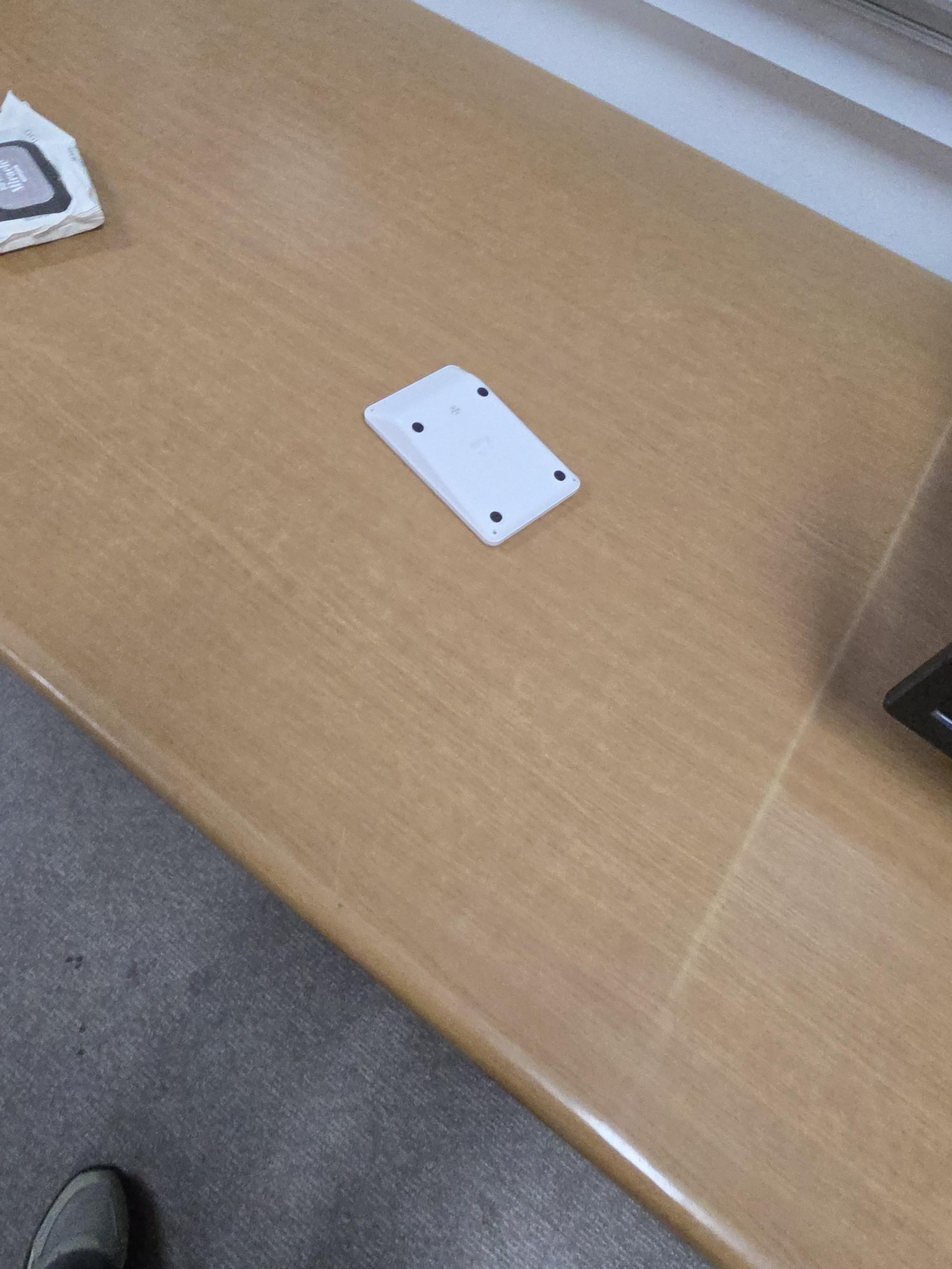calculator: (363, 364, 581, 547)
tissue: (0, 89, 105, 253)
